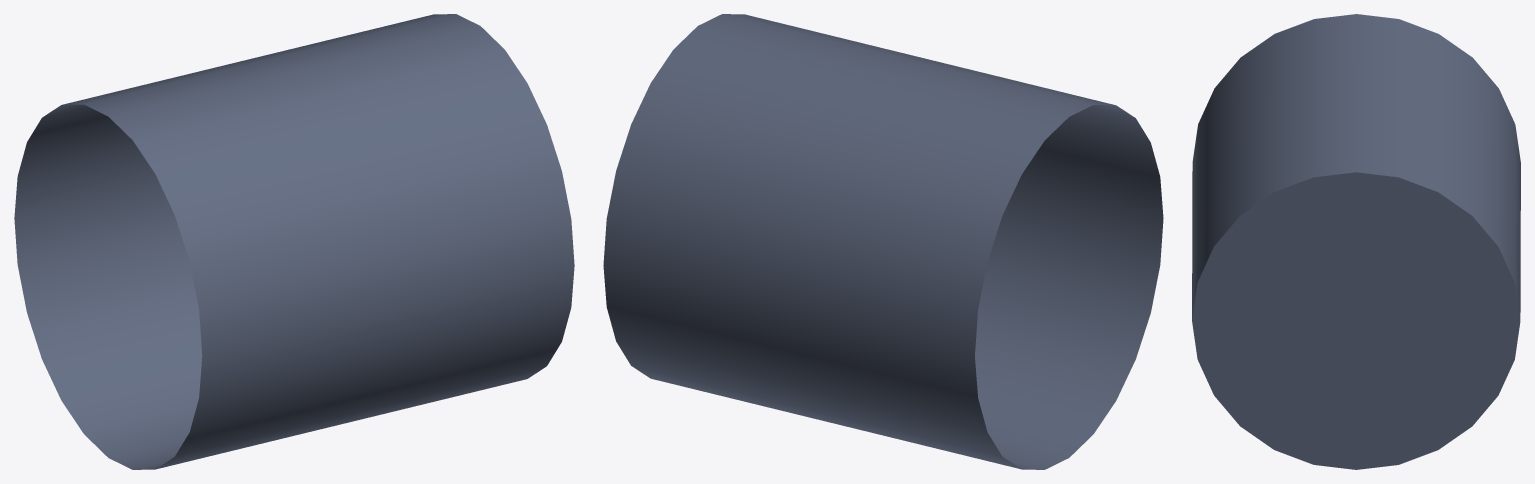
The model's file is original-4.obj.
The picture shows the model from 3 angles, left to right: view 1: azimuth 30°, elevation 25°; view 2: azimuth 150°, elevation 25°; view 3: azimuth 270°, elevation 25°; orthographic projection. The views are drawn at different scales.
Visible parts, largest first — view 1: #ID251; view 2: #ID251; view 3: #ID251.
Part boxes in pixels (x1,y1,x2,y2): #ID251: [14, 14, 574, 469]; #ID251: [603, 14, 1163, 469]; #ID251: [1192, 14, 1520, 469].
Size of the model in its own units: 0.0565 by 0.0495 by 0.0496.
